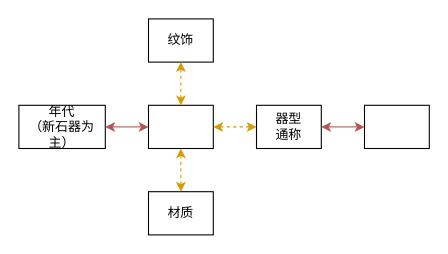
Image size: 448x254. Some labels were removed from this diagram. Each missing label, with the centre of its shape:
外形: (x=396, y=126)
文化: (x=180, y=126)
